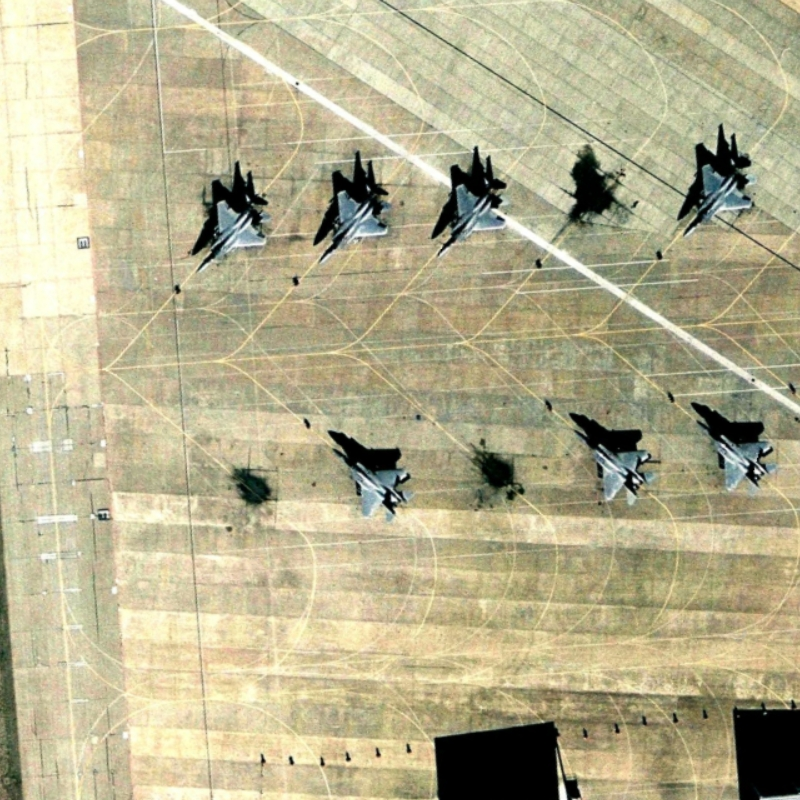A13: (327, 431, 418, 528), (567, 422, 663, 513), (194, 174, 277, 276), (310, 177, 397, 271), (688, 411, 782, 498), (425, 171, 511, 266), (673, 148, 760, 238)
